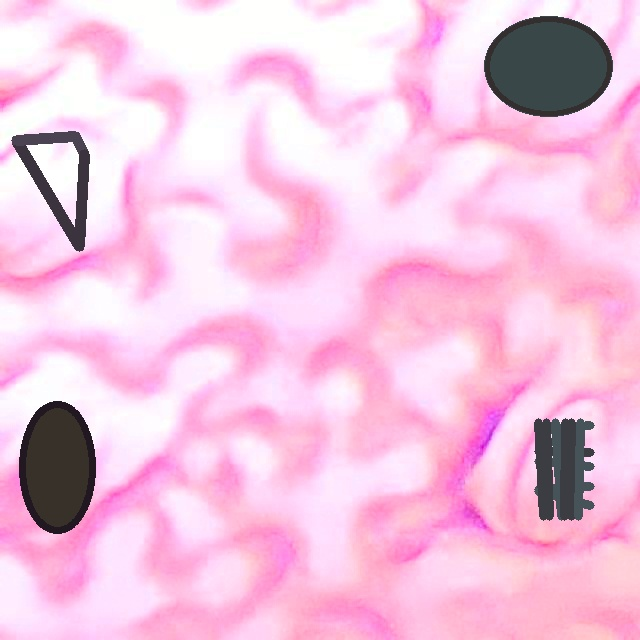close: (483, 17, 612, 116), (12, 131, 88, 250)
open: (20, 402, 94, 533), (535, 419, 593, 520)
